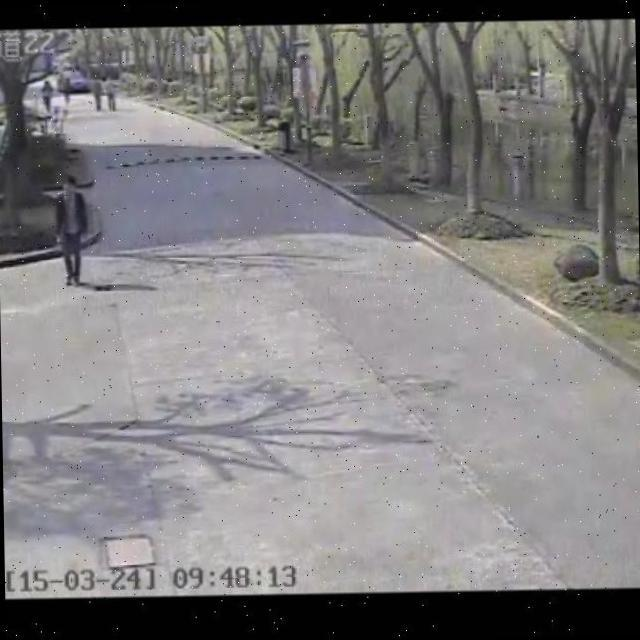person: (48, 170, 94, 291), (101, 71, 121, 113), (36, 77, 57, 116), (88, 72, 105, 114)
